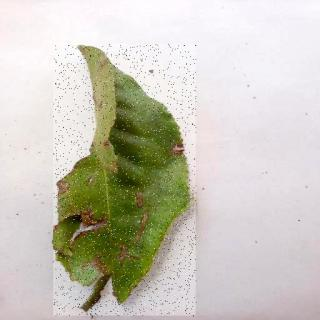Algal Leaf: (55, 46, 198, 318)
